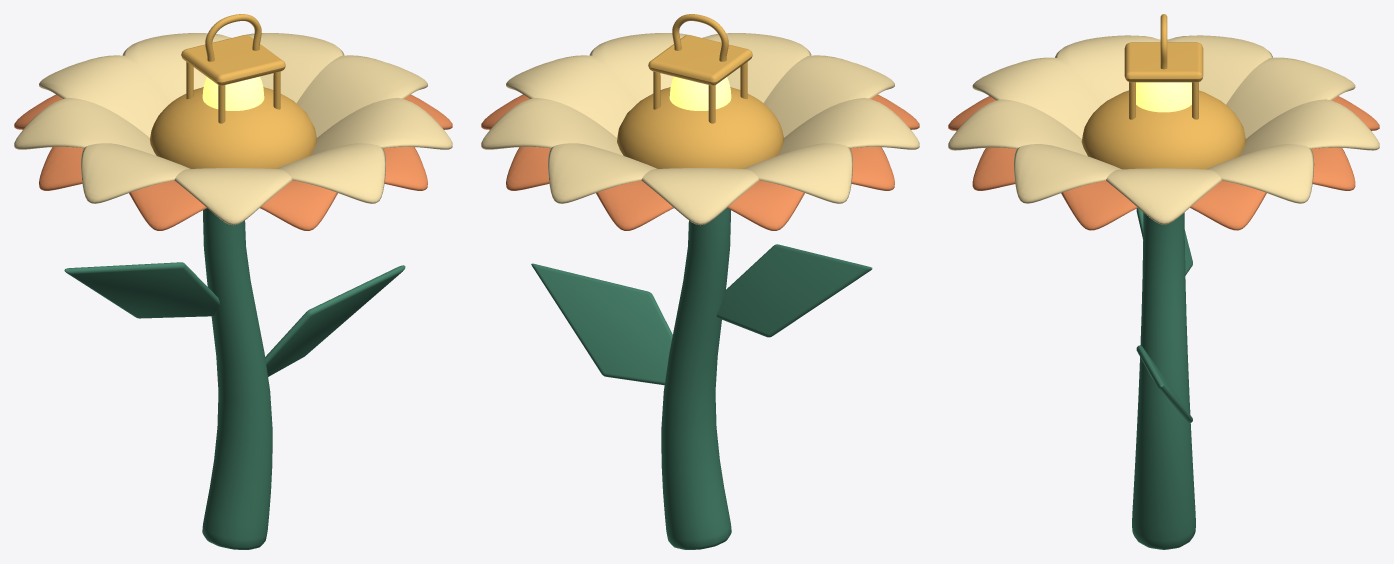
File: LanternFlower.glb
The picture shows the model from 3 angles, left to right: view 1: azimuth 30°, elevation 25°; view 2: azimuth 150°, elevation 25°; view 3: azimuth 270°, elevation 25°; orthographic projection.
Visible parts, largest first — view 1: Flower curling stem, Flower seed heart, Flower broad leaf.001, Flower sculpted petal.013, Flower sculpted petal.016, Flower sculpted petal.012, Flower sculpted petal.017, Flower sculpted petal.010, Flower sculpted petal.011, Flower sculpted petal.009, Flower broad leaf, Flower sculpted petal.015 (+8 smaller); view 2: Flower curling stem, Flower seed heart, Flower broad leaf, Flower broad leaf.001, Flower sculpted petal.013, Flower sculpted petal.010, Flower sculpted petal.014, Flower sculpted petal.009, Flower sculpted petal.016, Flower sculpted petal.017, Flower sculpted petal.015, Flower sculpted petal.011 (+8 smaller); view 3: Flower curling stem, Flower seed heart, Flower sculpted petal.010, Flower sculpted petal.016, Flower sculpted petal.011, Flower sculpted petal.015, Flower sculpted petal.013, Flower sculpted petal.012, Flower sculpted petal.014, Flower sculpted petal.017, Flower sculpted petal.009, Lantern rim.001 (+6 smaller).
Part boxes in pixels (bbox=[...]): Flower curling stem: bbox=[202, 208, 272, 549]; Flower seed heart: bbox=[150, 87, 316, 168]; Flower broad leaf.001: bbox=[64, 262, 219, 318]; Flower sculpted petal.013: bbox=[296, 55, 427, 137]; Flower sculpted petal.016: bbox=[39, 55, 170, 137]; Flower sculpted petal.012: bbox=[310, 98, 452, 155]; Flower sculpted petal.017: bbox=[14, 98, 156, 155]; Flower sculpted petal.010: bbox=[174, 168, 292, 225]; Flower sculpted petal.011: bbox=[276, 143, 385, 203]; Flower sculpted petal.009: bbox=[81, 143, 190, 203]; Flower broad leaf: bbox=[265, 265, 405, 376]; Flower sculpted petal.015: bbox=[122, 33, 230, 102]; Flower curling stem: bbox=[661, 208, 731, 549]; Flower seed heart: bbox=[617, 87, 783, 168]; Flower broad leaf: bbox=[531, 263, 672, 385]; Flower broad leaf.001: bbox=[716, 244, 872, 337]; Flower sculpted petal.013: bbox=[506, 55, 637, 137]; Flower sculpted petal.010: bbox=[763, 55, 894, 137]; Flower sculpted petal.014: bbox=[481, 98, 623, 155]; Flower sculpted petal.009: bbox=[777, 98, 919, 155]; Flower sculpted petal.016: bbox=[641, 168, 759, 225]; Flower sculpted petal.017: bbox=[743, 143, 852, 203]; Flower sculpted petal.015: bbox=[548, 143, 657, 203]; Flower sculpted petal.011: bbox=[703, 33, 811, 102]; Flower curling stem: bbox=[1132, 212, 1195, 549]; Flower seed heart: bbox=[1081, 90, 1246, 169]; Flower sculpted petal.010: bbox=[972, 57, 1101, 138]; Flower sculpted petal.016: bbox=[1226, 57, 1355, 138]; Flower sculpted petal.011: bbox=[948, 99, 1087, 156]; Flower sculpted petal.015: bbox=[1240, 99, 1379, 156]; Flower sculpted petal.013: bbox=[1106, 168, 1221, 224]; Flower sculpted petal.012: bbox=[1013, 144, 1121, 203]; Flower sculpted petal.014: bbox=[1206, 144, 1314, 203]; Flower sculpted petal.017: bbox=[1167, 35, 1272, 104]; Flower sculpted petal.009: bbox=[1055, 35, 1160, 104]; Lantern rim.001: bbox=[1124, 42, 1203, 82].
Size of the model in its own units: 2.81 by 3.68 by 2.77.
